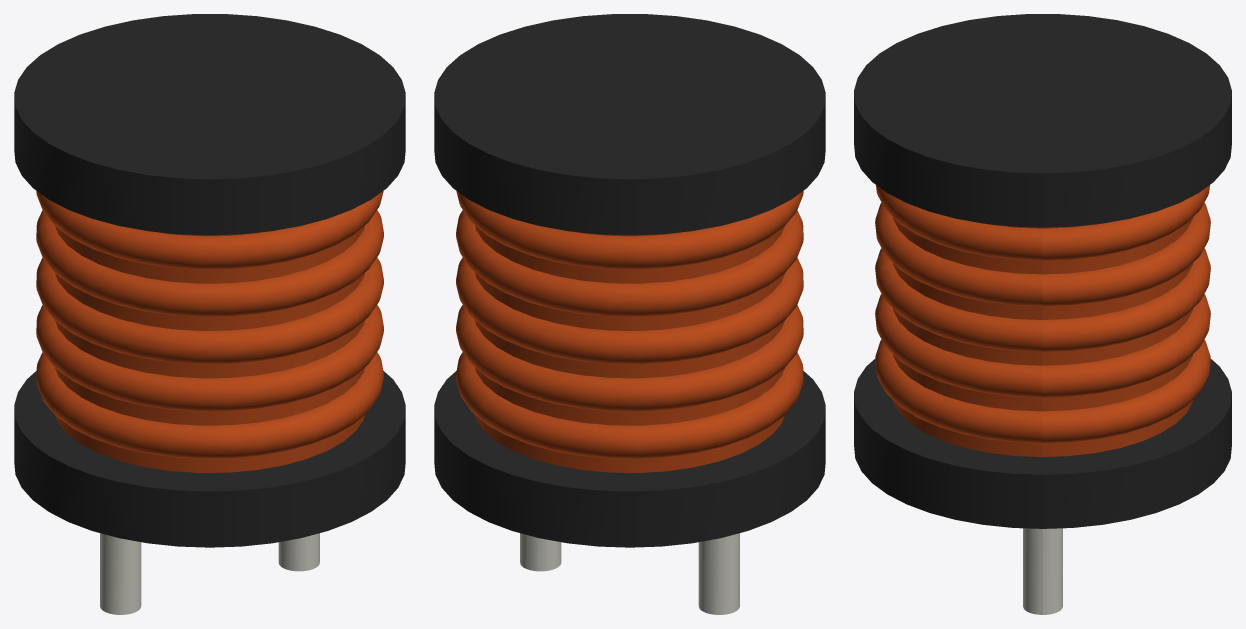
The model's file is kc-l_radial_d9.5mm_p5.00mm_fastron_07hvp.glb.
The picture shows the model from 3 angles, left to right: view 1: azimuth 30°, elevation 25°; view 2: azimuth 150°, elevation 25°; view 3: azimuth 270°, elevation 25°; orthographic projection. The views are drawn at different scales.
Visible parts, largest first — view 1: 0_0_0_0, 0.4166666666666667_0.08333333333333333_0_0, 0.6666666666666666_0.6666666666666666_0.5833333333333334_0.8; view 2: 0_0_0_0, 0.4166666666666667_0.08333333333333333_0_0, 0.6666666666666666_0.6666666666666666_0.5833333333333334_0.8; view 3: 0_0_0_0, 0.4166666666666667_0.08333333333333333_0_0, 0.6666666666666666_0.6666666666666666_0.5833333333333334_0.8.
Boxes of the visible parts, bbox=[...] form: 0_0_0_0: bbox=[14, 14, 405, 547]; 0.4166666666666667_0.08333333333333333_0_0: bbox=[36, 191, 383, 472]; 0.6666666666666666_0.6666666666666666_0.5833333333333334_0.8: bbox=[100, 533, 319, 614]; 0_0_0_0: bbox=[434, 14, 825, 547]; 0.4166666666666667_0.08333333333333333_0_0: bbox=[456, 191, 803, 472]; 0.6666666666666666_0.6666666666666666_0.5833333333333334_0.8: bbox=[520, 533, 739, 614]; 0_0_0_0: bbox=[854, 14, 1231, 528]; 0.4166666666666667_0.08333333333333333_0_0: bbox=[875, 185, 1210, 456]; 0.6666666666666666_0.6666666666666666_0.5833333333333334_0.8: bbox=[1023, 528, 1062, 614].
Bounding box in the file's own units: 0.9485 × 1.31 × 0.9492.
